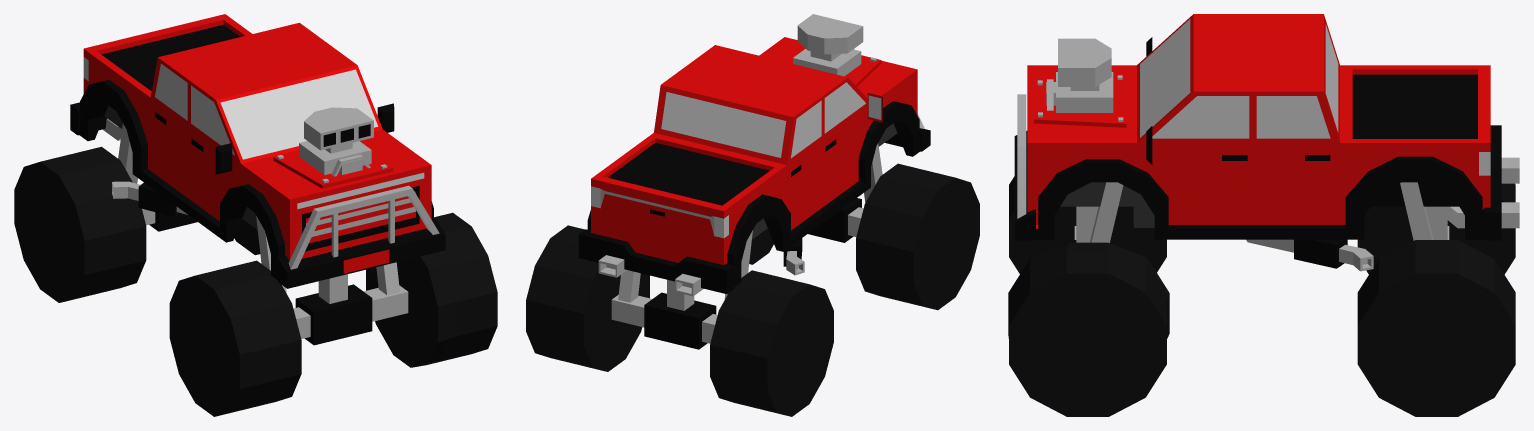
File: monster_truck.gltf
The picture shows the model from 3 angles, left to right: view 1: azimuth 30°, elevation 25°; view 2: azimuth 150°, elevation 25°; view 3: azimuth 270°, elevation 25°; orthographic projection. The views are drawn at different scales.
Visible parts, largest first — view 1: MonsterTruck, Wheel_FR, Wheel_RR, Wheel_FL.002, Wheel_RL; view 2: MonsterTruck, Wheel_FR, Wheel_RR, Wheel_RL, Wheel_FL.002; view 3: MonsterTruck, Wheel_FL.002, Wheel_RL, Wheel_FR, Wheel_RR.
Part boxes in pixels (left/top/right/bottom): MonsterTruck: left=70, top=14, right=445, bottom=345; Wheel_FR: left=169, top=260, right=301, bottom=416; Wheel_RR: left=14, top=146, right=146, bottom=302; Wheel_FL.002: left=366, top=212, right=497, bottom=367; Wheel_RL: left=234, top=219, right=260, bottom=255; MonsterTruck: left=578, top=14, right=930, bottom=349; Wheel_FR: left=856, top=163, right=979, bottom=310; Wheel_RR: left=710, top=270, right=833, bottom=416; Wheel_RL: left=526, top=225, right=649, bottom=371; Wheel_FL.002: left=749, top=228, right=773, bottom=264; MonsterTruck: left=1014, top=14, right=1519, bottom=271; Wheel_FL.002: left=1008, top=242, right=1169, bottom=416; Wheel_RL: left=1357, top=240, right=1515, bottom=416; Wheel_FR: left=1009, top=176, right=1166, bottom=273; Wheel_RR: left=1357, top=183, right=1515, bottom=274.
Size of the model in its own units: 6 by 5.82 by 9.19.
